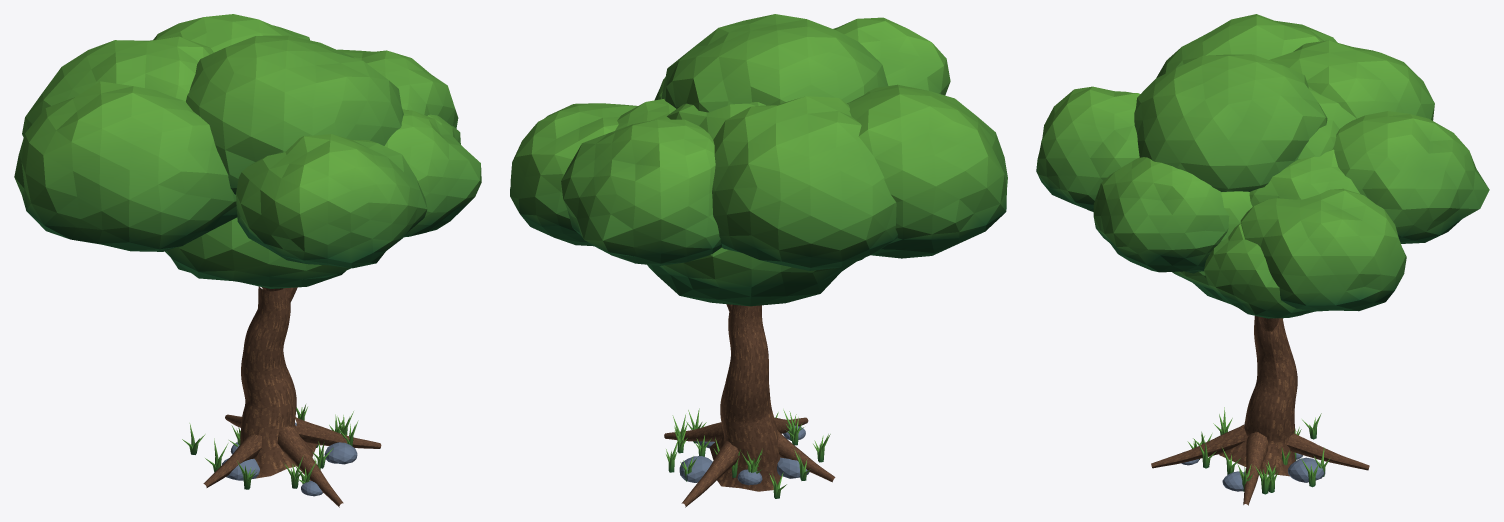
Rendered from stylized_mese_agaci.glb.
The picture shows the model from 3 angles, left to right: view 1: azimuth 30°, elevation 25°; view 2: azimuth 150°, elevation 25°; view 3: azimuth 270°, elevation 25°; orthographic projection. The views are drawn at different scales.
Visible parts, largest first — view 1: StylizedFoliageCanopy, TreeTrunkAndBranches, StylizedGrassTufts, StylizedRocks; view 2: StylizedFoliageCanopy, TreeTrunkAndBranches, StylizedGrassTufts, StylizedRocks; view 3: StylizedFoliageCanopy, TreeTrunkAndBranches, StylizedGrassTufts, StylizedRocks.
Part boxes in pixels (x1,y1,x2,y2): StylizedFoliageCanopy: (14, 14, 481, 288); TreeTrunkAndBranches: (203, 286, 381, 507); StylizedGrassTufts: (182, 404, 358, 489); StylizedRocks: (221, 422, 357, 496); StylizedFoliageCanopy: (510, 14, 1007, 306); TreeTrunkAndBranches: (664, 304, 835, 507); StylizedGrassTufts: (666, 408, 830, 498); StylizedRocks: (679, 425, 809, 485); StylizedFoliageCanopy: (1036, 14, 1489, 318); TreeTrunkAndBranches: (1151, 316, 1369, 505); StylizedGrassTufts: (1187, 407, 1330, 494); StylizedRocks: (1181, 452, 1325, 491).
Size of the model in its own units: 7 by 6.54 by 6.72.
4 materials, 1 textured.
